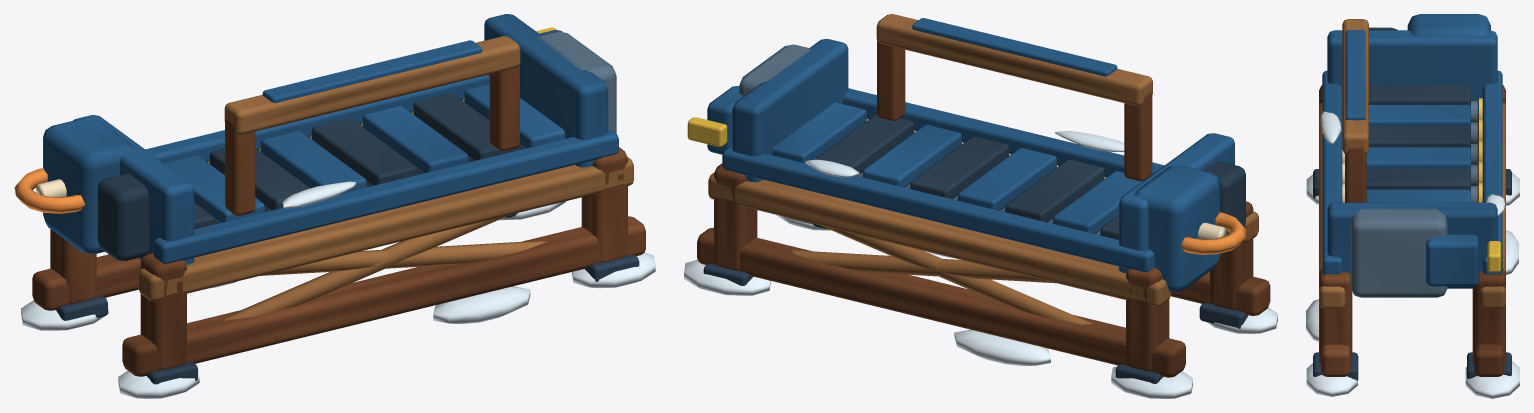
The model's file is conveyor_straight.glb.
3 renders of one model, left to right at view 1: azimuth 30°, elevation 25°; view 2: azimuth 150°, elevation 25°; view 3: azimuth 270°, elevation 25°, orthographic. The views are drawn at different scales.
Visible parts, largest first — view 1: conveyor_straight; view 2: conveyor_straight; view 3: conveyor_straight.
Part boxes in pixels (x1,y1,x2,y2): conveyor_straight: (14, 14, 655, 398); conveyor_straight: (684, 14, 1277, 398); conveyor_straight: (1306, 14, 1519, 398).
Size of the model in its own units: 3.36 by 1.46 by 1.28.
